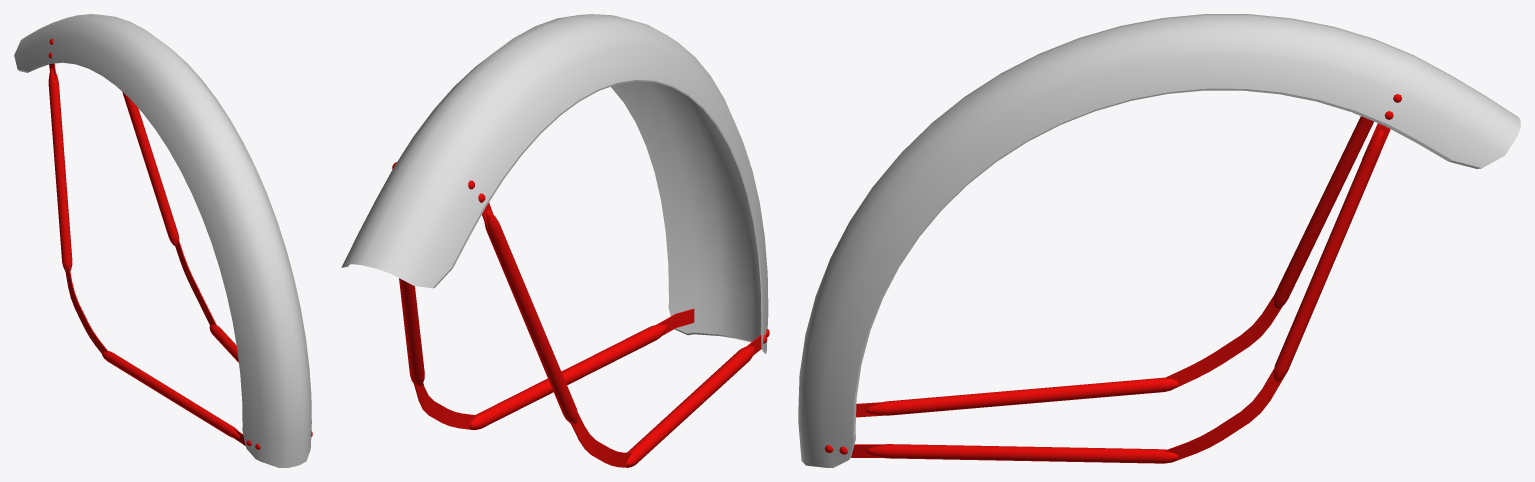
Rendered from WingF.fbx.
3 views of the same model, side by side, from view 1: azimuth 30°, elevation 25°; view 2: azimuth 150°, elevation 25°; view 3: azimuth 270°, elevation 25° (orthographic). The views are drawn at different scales.
Parts seen in each view (by area): view 1: WingF; view 2: WingF; view 3: WingF.
Part boxes in pixels (x1=…): WingF: x1=14, y1=14, x2=312, y2=467; WingF: x1=341, y1=14, x2=769, y2=467; WingF: x1=798, y1=14, x2=1520, y2=467.
Bounding box in the file's own units: 158 × 416 × 622.
